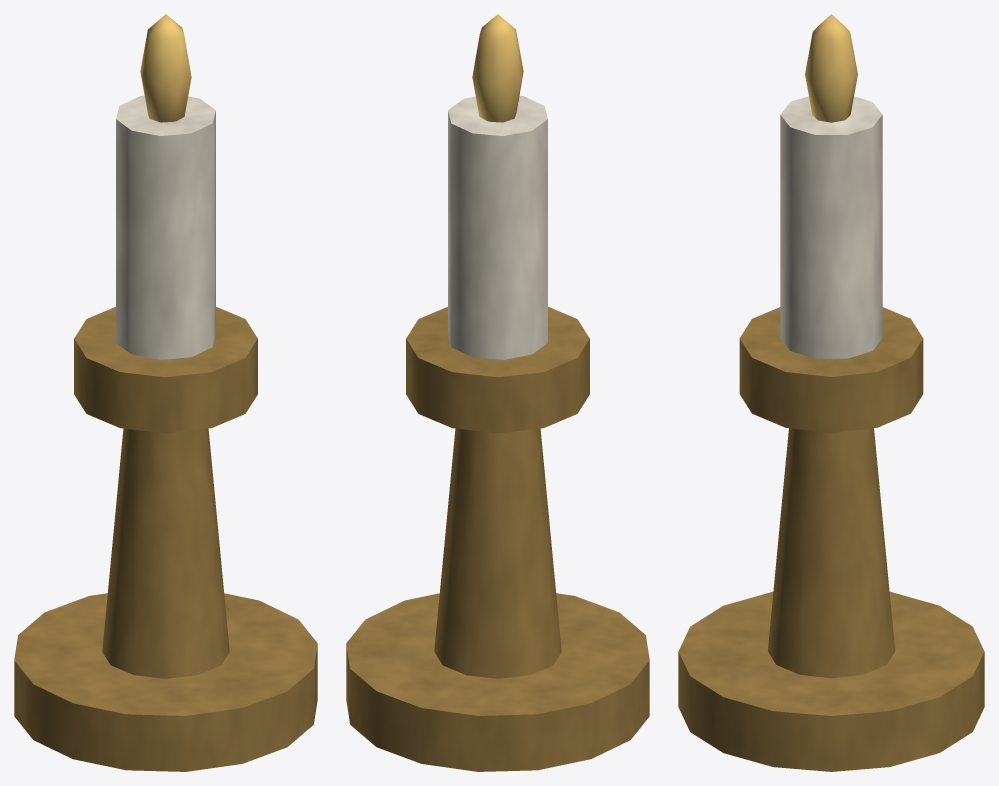
The model's file is Furn_CandleStand.fbx.
3 renders of one model, left to right at view 1: azimuth 30°, elevation 25°; view 2: azimuth 150°, elevation 25°; view 3: azimuth 270°, elevation 25°, orthographic.
Visible parts, largest first — view 1: Furn_CandleStand_Mesh; view 2: Furn_CandleStand_Mesh; view 3: Furn_CandleStand_Mesh.
Boxes of the visible parts, left/top/right/bottom form: Furn_CandleStand_Mesh: left=14, top=14, right=317, bottom=771; Furn_CandleStand_Mesh: left=346, top=14, right=649, bottom=771; Furn_CandleStand_Mesh: left=678, top=14, right=984, bottom=771.
Size of the model in its own units: 0.12 by 0.3 by 0.12.
3 materials, 3 textured.
